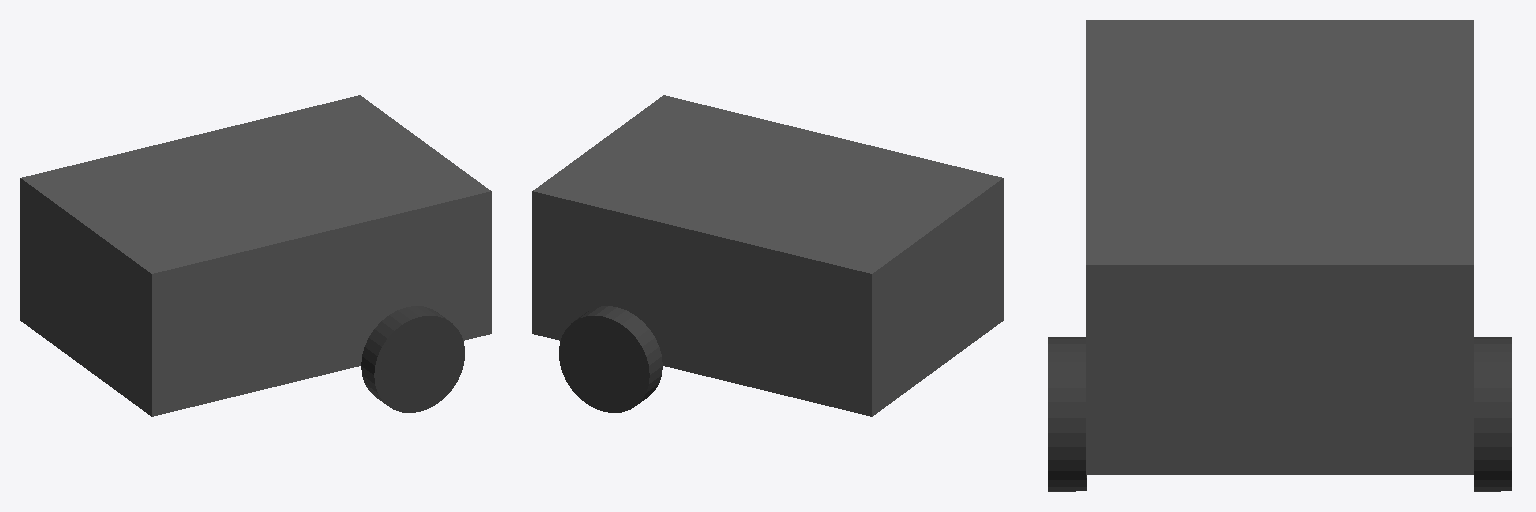
The robot description file, URDF, robot "turtlebot3_waffle":
<?xml version="1.0" ?>
<robot name="turtlebot3_waffle" xmlns:xacro="http://ros.org/wiki/xacro">
  <!-- <xacro:include filename="$(find turtlebot3_description)/urdf/common_properties.urdf"/> -->

  <!-- Init colour -->
  <material name="black">
      <color rgba="0.0 0.0 0.0 1.0"/>
  </material>

  <material name="dark">
    <color rgba="0.3 0.3 0.3 1.0"/>
  </material>

  <material name="light_black">
    <color rgba="0.4 0.4 0.4 1.0"/>
  </material>

  <material name="blue">
    <color rgba="0.0 0.0 0.8 1.0"/>
  </material>

  <material name="green">
    <color rgba="0.0 0.8 0.0 1.0"/>
  </material>

  <material name="grey">
    <color rgba="0.5 0.5 0.5 1.0"/>
  </material>

  <material name="orange">
    <color rgba="1.0 0.4235 0.0392 1.0"/>
  </material>

  <material name="brown">
    <color rgba="0.8706 0.8118 0.7647 1.0"/>
  </material>

  <material name="red">
    <color rgba="0.8 0.0 0.0 1.0"/>
  </material>

  <material name="white">
    <color rgba="1.0 1.0 1.0 1.0"/>
  </material>

  <link name="base_footprint"/>

  <joint name="base_joint" type="fixed">
    <parent link="base_footprint"/>
    <child link="base_link" />
    <origin xyz="0 0 0.090" rpy="0 0 0"/>
  </joint>

  <link name="base_link">
    <visual>
      <origin xyz="-0.112 0 0.0" rpy="0 0 0"/>
      <geometry>
        <box size="0.448 0.3 0.18"/>
      </geometry>
      <material name="light_black"/>
    </visual>

    <collision>
      <origin xyz="-0.112 0 0.0" rpy="0 0 0"/>
      <geometry>
        <box size="0.448 0.3 0.18"/>
      </geometry>
    </collision>

    <inertial>
      <origin xyz="-0.112 0 0" rpy="0 0 0"/>
      <mass value="1.469e+00"/>
      <inertia ixx="3.585e-02" ixy="0" ixz="0"
               iyy="5.878e-02" iyz="0"
               izz="7.398e-02" />
    </inertial>
  </link>

  <joint name="wheel_left_joint" type="continuous">
    <parent link="base_link"/>
    <child link="wheel_left_link"/>
    <origin xyz="0.0 0.165 -0.09" rpy="-1.57 0 0"/>
    <axis xyz="0 0 1"/>
  </joint>

  <link name="wheel_left_link">
    <visual>
      <origin xyz="0 0 0" rpy="0 0 0"/>
      <geometry>
        <cylinder length="0.03" radius="0.06"/>
      </geometry>
      <material name="dark"/>
    </visual>

    <collision>
      <origin xyz="0 0 0" rpy="0 0 0"/>
      <geometry>
        <cylinder length="0.03" radius="0.06"/>
      </geometry>
    </collision>

    <inertial>
      <origin xyz="0 0 0" />
      <mass value="2.8498940e-02" />
      <inertia ixx="1.1175580e-05" ixy="-4.2369783e-11" ixz="-5.9381719e-09"
               iyy="1.1192413e-05" iyz="-1.4400107e-11"
               izz="2.0712558e-05" />
      </inertial>
  </link>

  <joint name="wheel_right_joint" type="continuous">
    <parent link="base_link"/>
    <child link="wheel_right_link"/>
    <origin xyz="0.0 -0.165 -0.09" rpy="-1.57 0 0"/>
    <axis xyz="0 0 1"/>
  </joint>

  <link name="wheel_right_link">
    <visual>
      <origin xyz="0 0 0" rpy="0 0 0"/>
      <geometry>
        <cylinder length="0.03" radius="0.06"/>
      </geometry>
      <material name="dark"/>
    </visual>

    <collision>
      <origin xyz="0 0 0" rpy="0 0 0"/>
      <geometry>
        <cylinder length="0.03" radius="0.06"/>
      </geometry>
    </collision>

    <inertial>
      <origin xyz="0 0 0" />
      <mass value="2.8498940e-02" />
      <inertia ixx="1.1175580e-05" ixy="-4.2369783e-11" ixz="-5.9381719e-09"
               iyy="1.1192413e-05" iyz="-1.4400107e-11"
               izz="2.0712558e-05" />
      </inertial>
  </link>

  <joint name="caster_back_joint" type="fixed">
    <parent link="base_link"/>
    <child link="caster_back_link"/>
    <origin xyz="-0.224 0.0 -0.13775" rpy="-1.57 0 0"/>
  </joint>

  <link name="caster_back_link">
    <collision>
      <origin xyz="0 0.001 0" rpy="0 0 0"/>
      <geometry>
        <box size="0.030 0.009 0.020"/>
      </geometry>
    </collision>

    <inertial>
      <origin xyz="0 0 0" />
      <mass value="0.005" />
      <inertia ixx="0.001" ixy="0.0" ixz="0.0"
               iyy="0.001" iyz="0.0"
               izz="0.001" />
    </inertial>
  </link>

  <joint name="imu_joint" type="fixed">
    <parent link="base_link"/>
    <child link="imu_link"/>
    <origin xyz="0.0 0 0.068" rpy="0 0 0"/>
  </joint>

  <link name="imu_link"/>

  <joint name="scan_joint" type="fixed">
    <parent link="base_link"/>
    <child link="base_scan"/>
    <origin xyz="-0.064 0 0.2" rpy="0 0 0"/>
  </joint>

  <link name="base_scan">
    <visual>
      <origin xyz="0 0 0" rpy="0 0 0"/>
      <geometry>
        <mesh filename="package://turtlebot3_gazebo/models/turtlebot3_common/meshes/lds.dae" scale="0.001 0.001 0.001"/>
      </geometry>
      <material name="dark"/>
    </visual>

    <collision>
      <origin xyz="0.015 0 -0.0065" rpy="0 0 0"/>
      <geometry>
        <cylinder length="0.0315" radius="0.055"/>
      </geometry>
    </collision>

    <inertial>
      <mass value="0.114" />
      <origin xyz="0 0 0" />
      <inertia ixx="0.001" ixy="0.0" ixz="0.0"
               iyy="0.001" iyz="0.0"
               izz="0.001" />
    </inertial>
  </link>

</robot>

--- Render facts (derived) ---
3 views of the same robot in one strip: view 1: azimuth 30°, elevation 25°; view 2: azimuth 150°, elevation 25°; view 3: azimuth 270°, elevation 25° (orthographic).
Robot: turtlebot3_waffle — 7 links, 6 joints (2 continuous, 4 fixed); root link base_footprint; default pose: every joint at zero.
Links seen in each view (by area): view 1: base_link, wheel_right_link; view 2: base_link, wheel_left_link; view 3: base_link, wheel_right_link, wheel_left_link.
Boxes of the visible links, box(x1,y1,x2,y2) form: base_link: box(20, 95, 491, 416); wheel_right_link: box(361, 306, 464, 412); base_link: box(532, 95, 1003, 416); wheel_left_link: box(559, 306, 662, 412); base_link: box(1086, 20, 1473, 474); wheel_right_link: box(1048, 337, 1086, 491); wheel_left_link: box(1474, 337, 1511, 491).
Bounding box of the posed robot: 0.448 × 0.3601 × 0.24 m (x, y, z).
0 mesh visuals loaded from 1 distinct referenced files (none loaded); not drawn: 1 (reference not matched to a file when rendering).